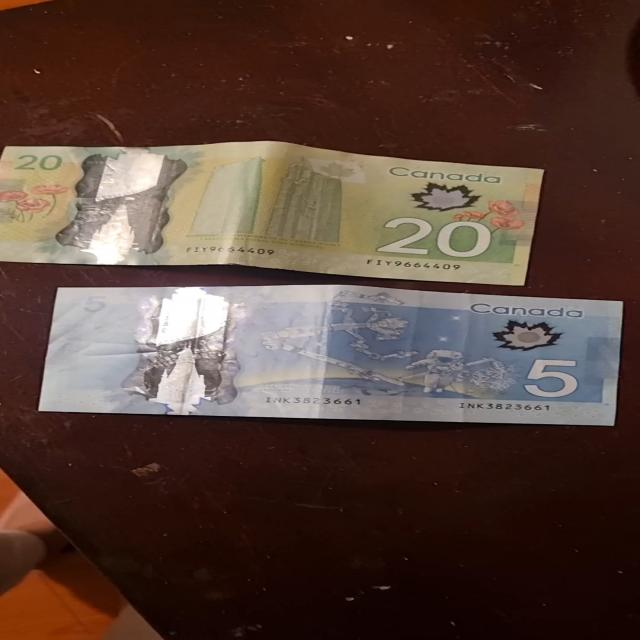20 cad: (7, 144, 548, 287)
5 cad: (37, 284, 628, 423)
